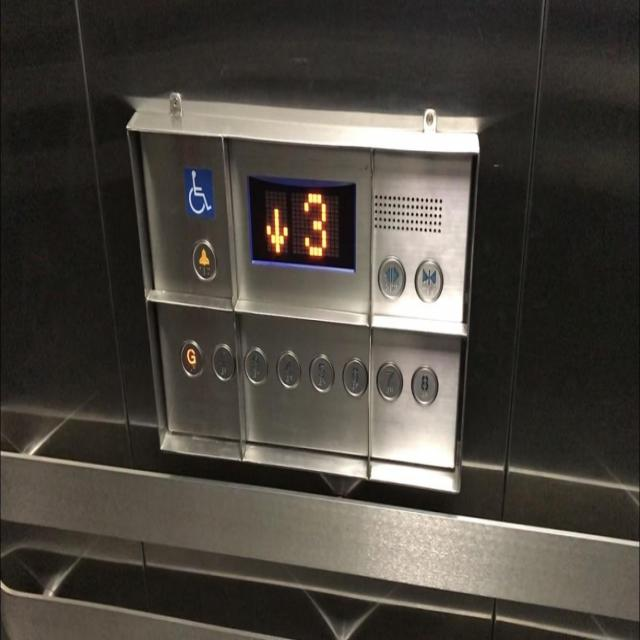2: (210, 342, 236, 382)
3: (243, 344, 268, 386)
4: (276, 349, 301, 391)
5: (308, 352, 334, 394)
6: (342, 356, 368, 398)
7: (375, 359, 403, 402)
8: (410, 363, 439, 406)
CH: (183, 164, 214, 218)
G: (178, 335, 204, 380)
alarm: (190, 237, 218, 284)
close: (413, 254, 443, 304)
led: (245, 170, 357, 275)
open: (376, 254, 406, 302)
